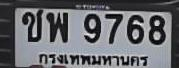6: (126, 14, 143, 43)
7: (104, 13, 122, 43)
8: (148, 14, 164, 44)
9: (83, 13, 100, 42)
A10: (21, 9, 42, 41)
A30: (46, 11, 67, 42)
BKK: (37, 51, 149, 68)
